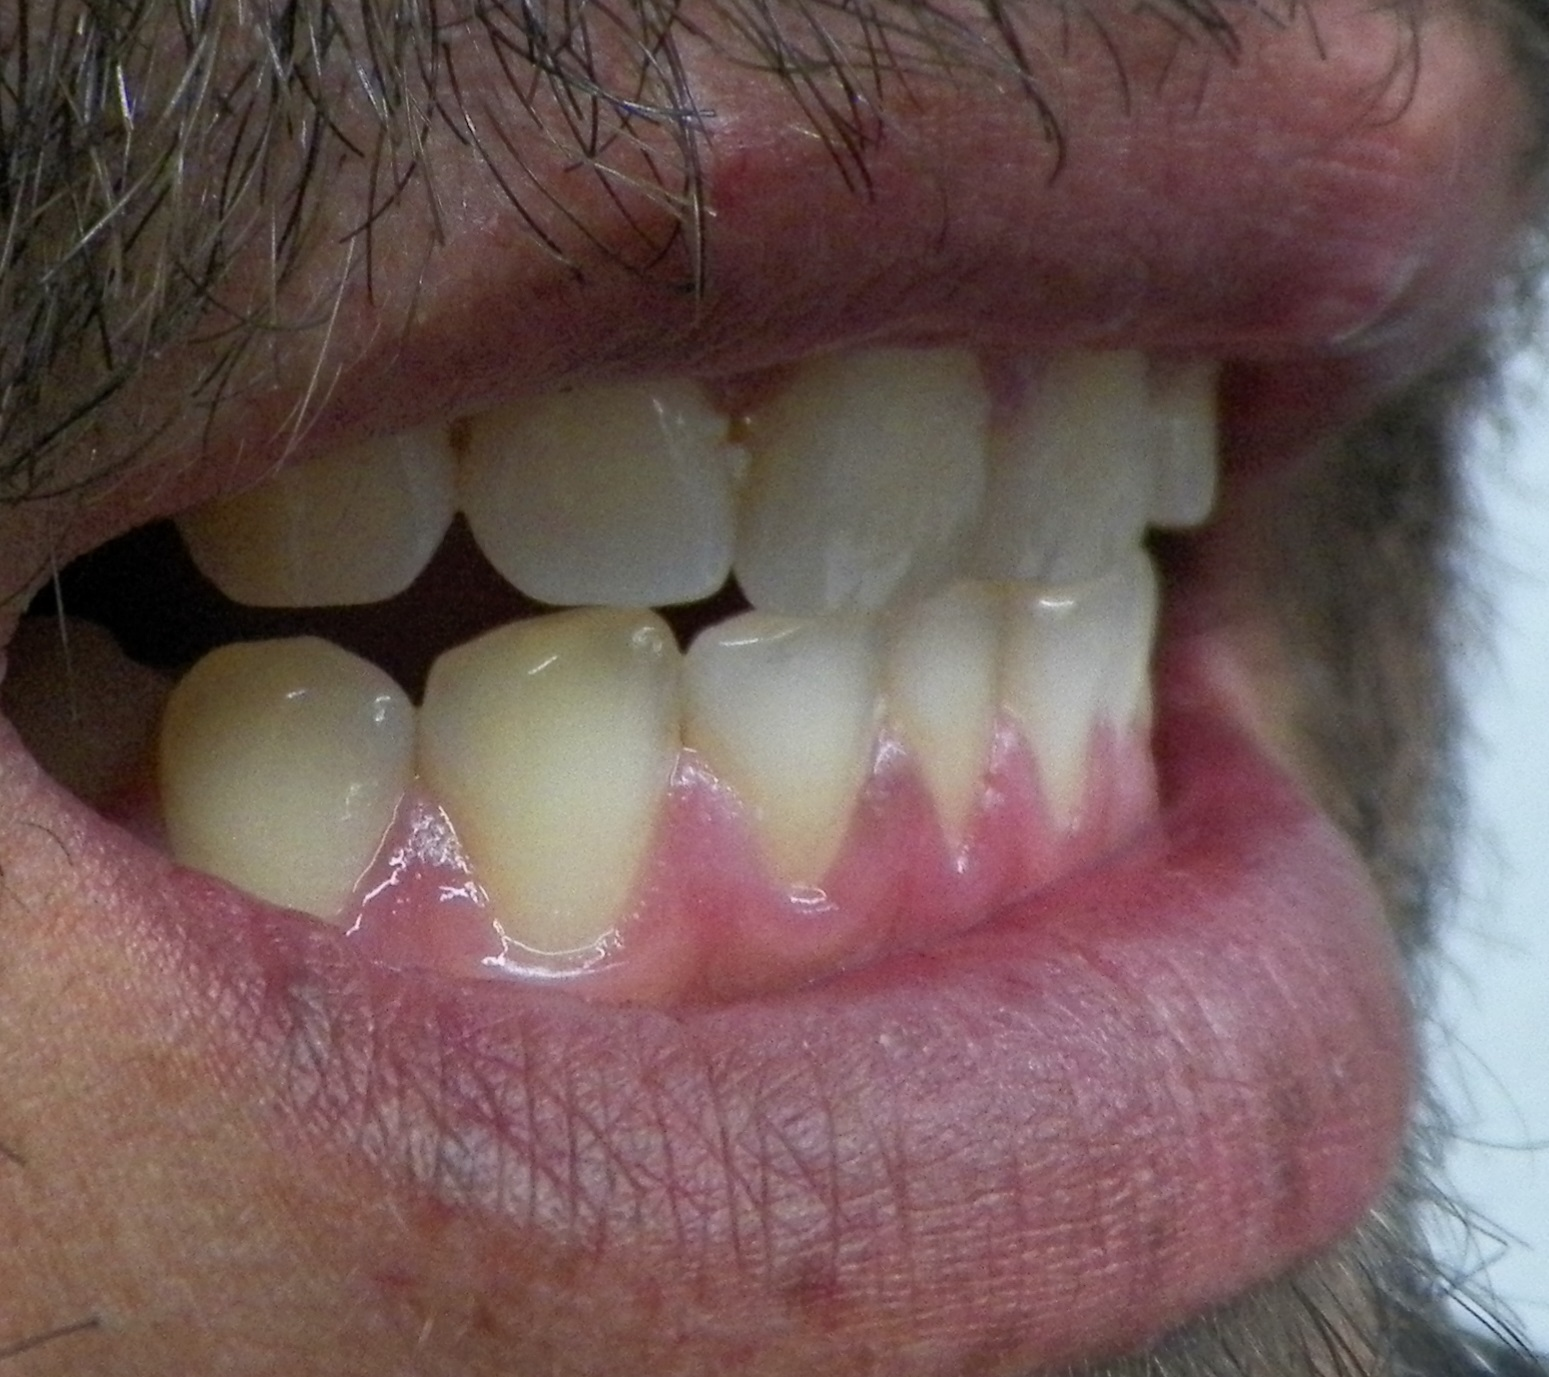boca: (182, 344, 1260, 940)
